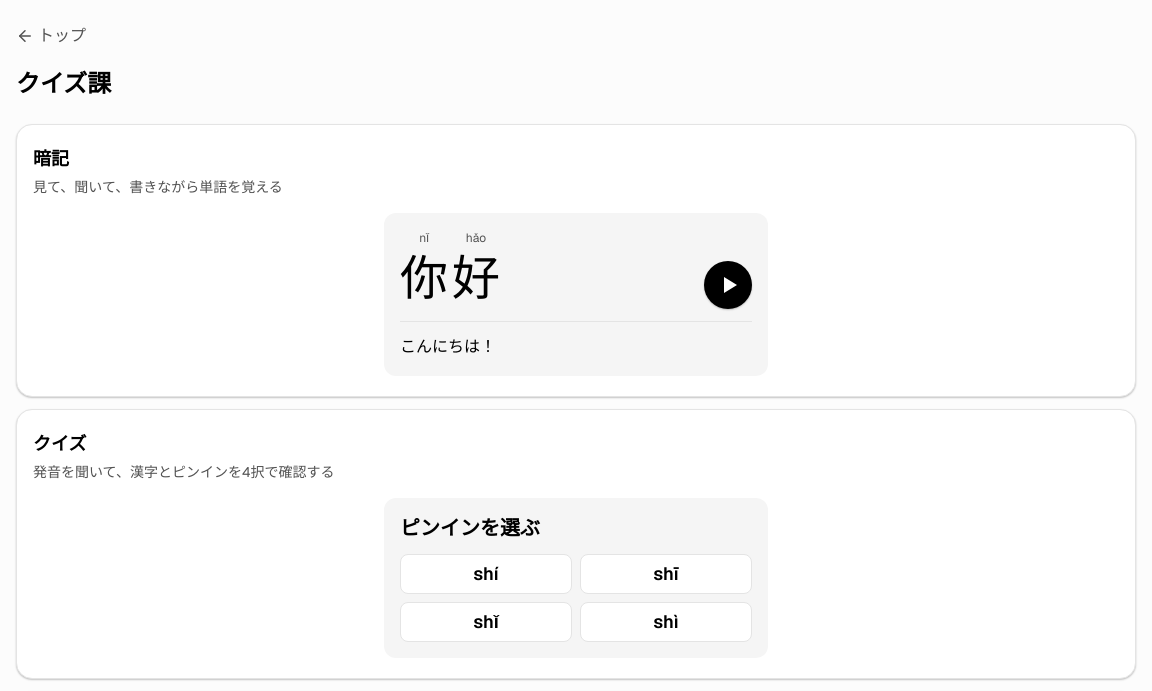
Test: LessonRunner › モード選択画面 › クイズ設定で出題する単語を選べること
This screenshot has width=1152, height=691.
Click the button "クイズ 発音を聞いて、漢字とピンインを4択で確認する ピンインを選ぶ shí shī shǐ shì": (83,544) 16,408 -> 1136,678
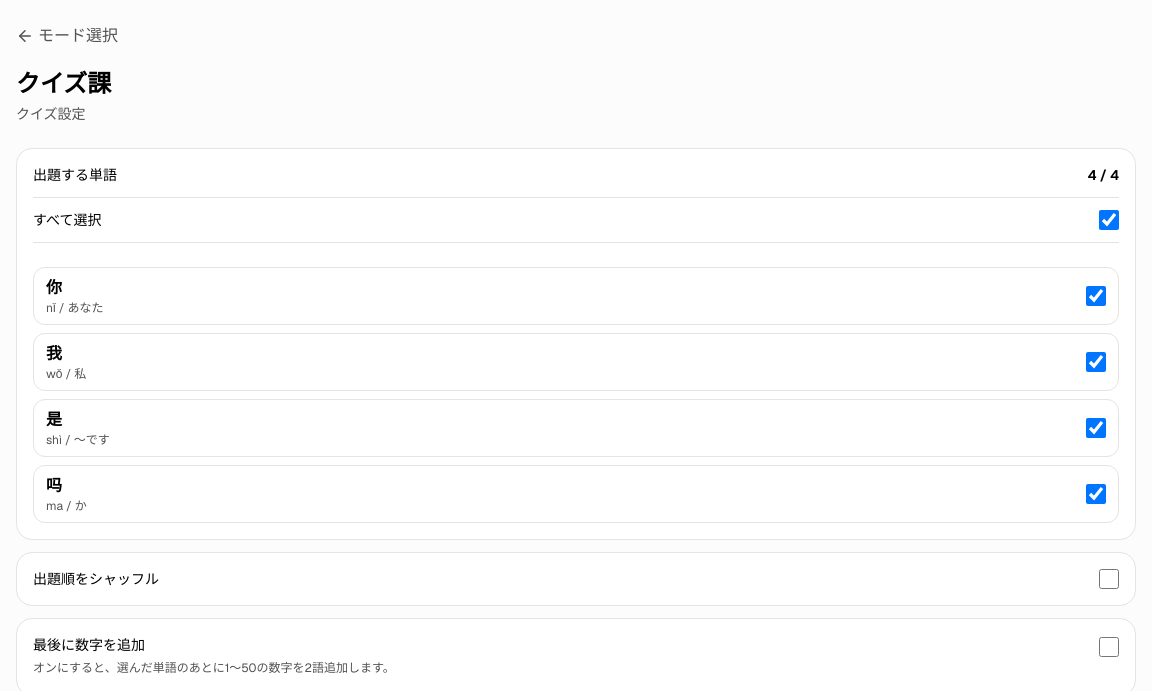
Click the checkbox labelled "我": (1096,362) 1086,352 -> 1106,372
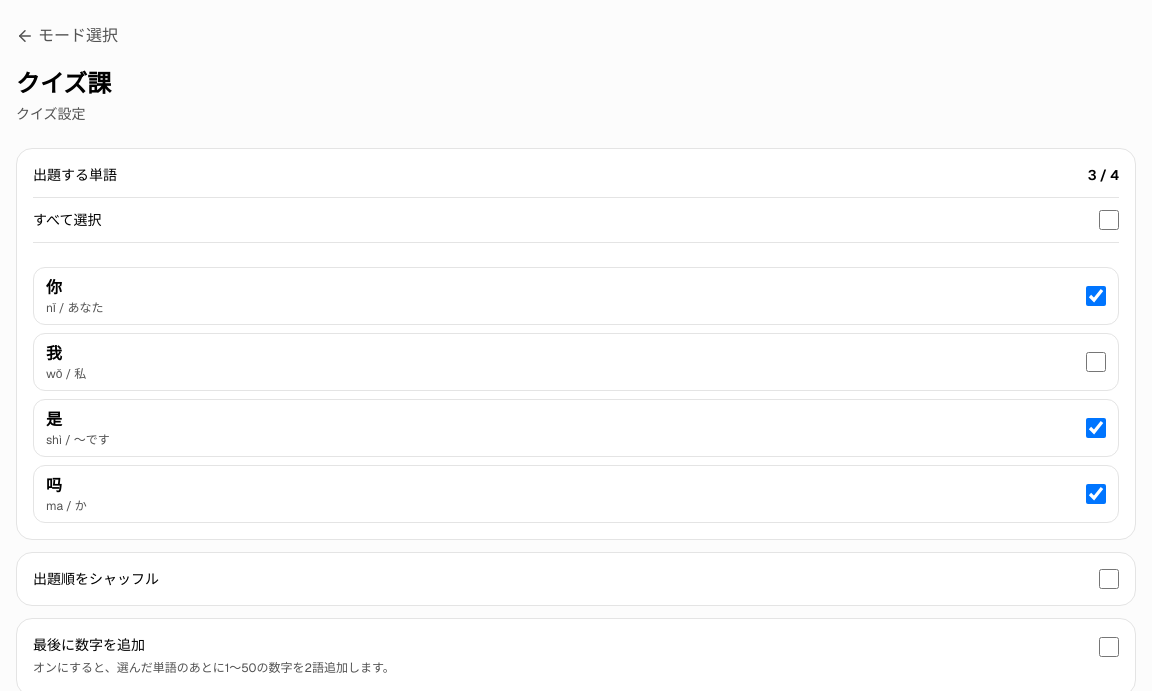
Click the checkbox labelled "是": (1096,428) 1086,418 -> 1106,438
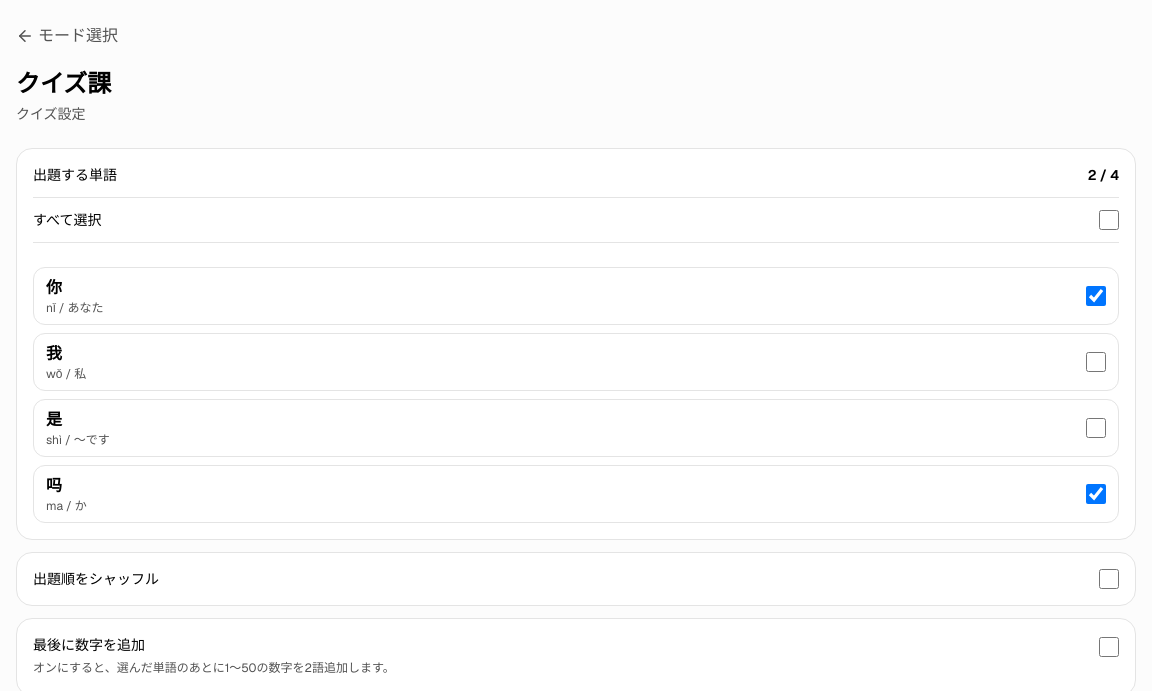
Click the checkbox labelled "吗": (1096,494) 1086,484 -> 1106,504
(page scrolled)
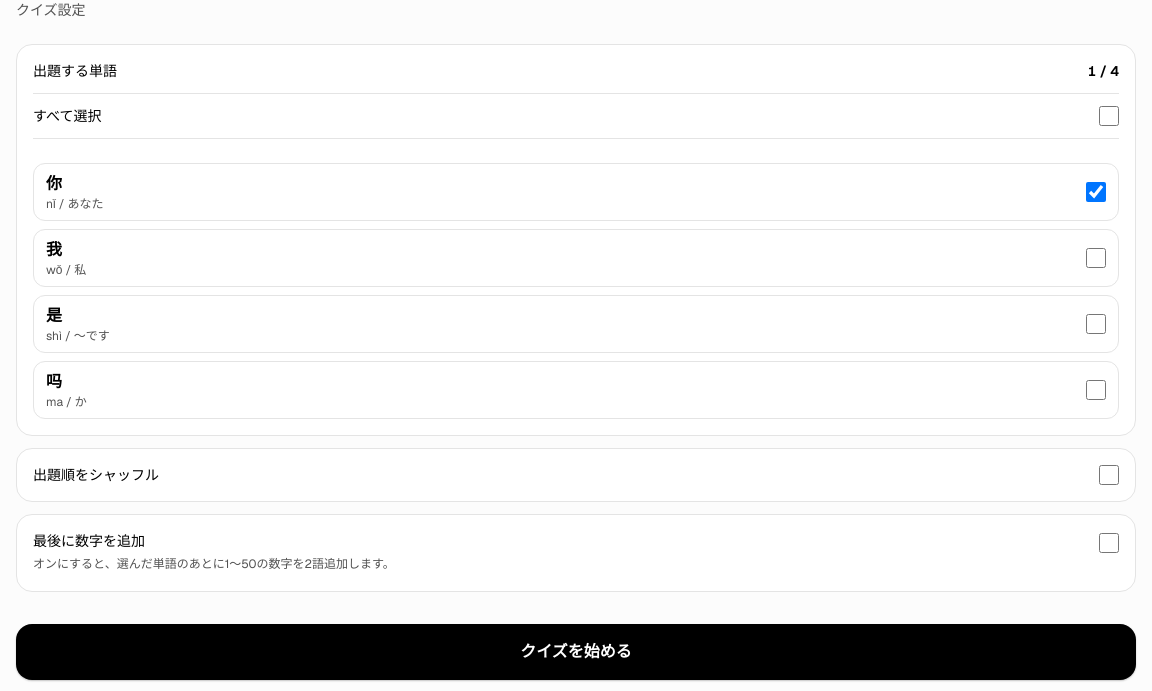
Click the button "クイズを始める": (576,652) 16,624 -> 1136,680
(page scrolled)
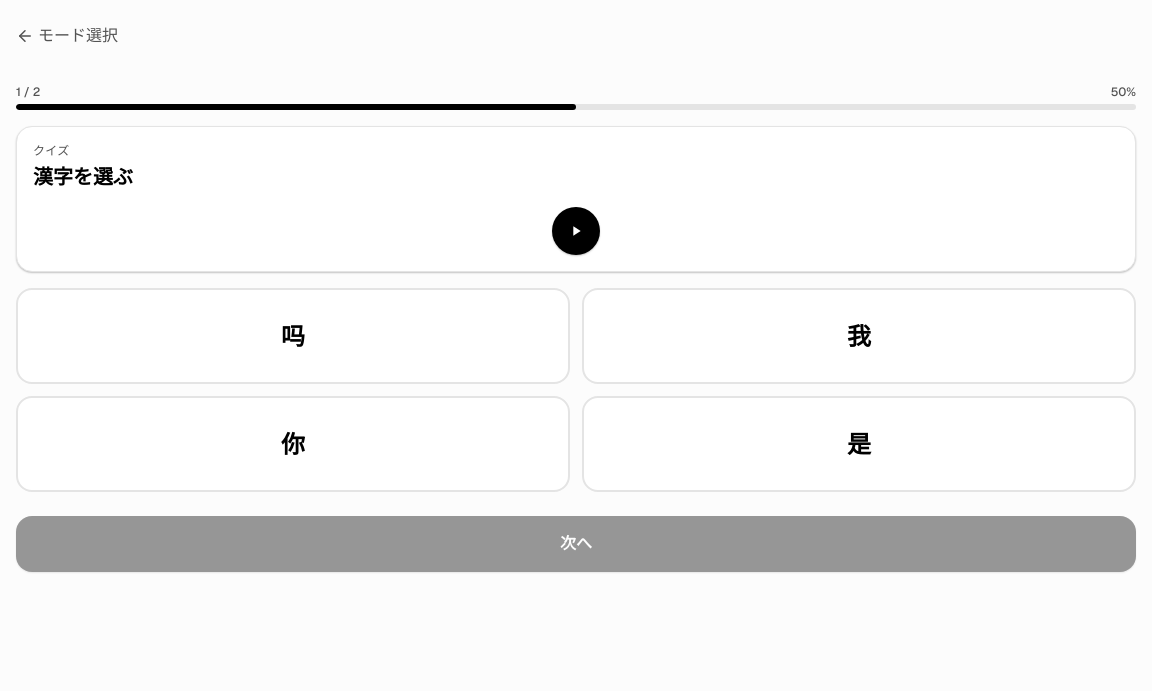
Expected: the text "1 / 2" is shown, 16,84 -> 40,100
